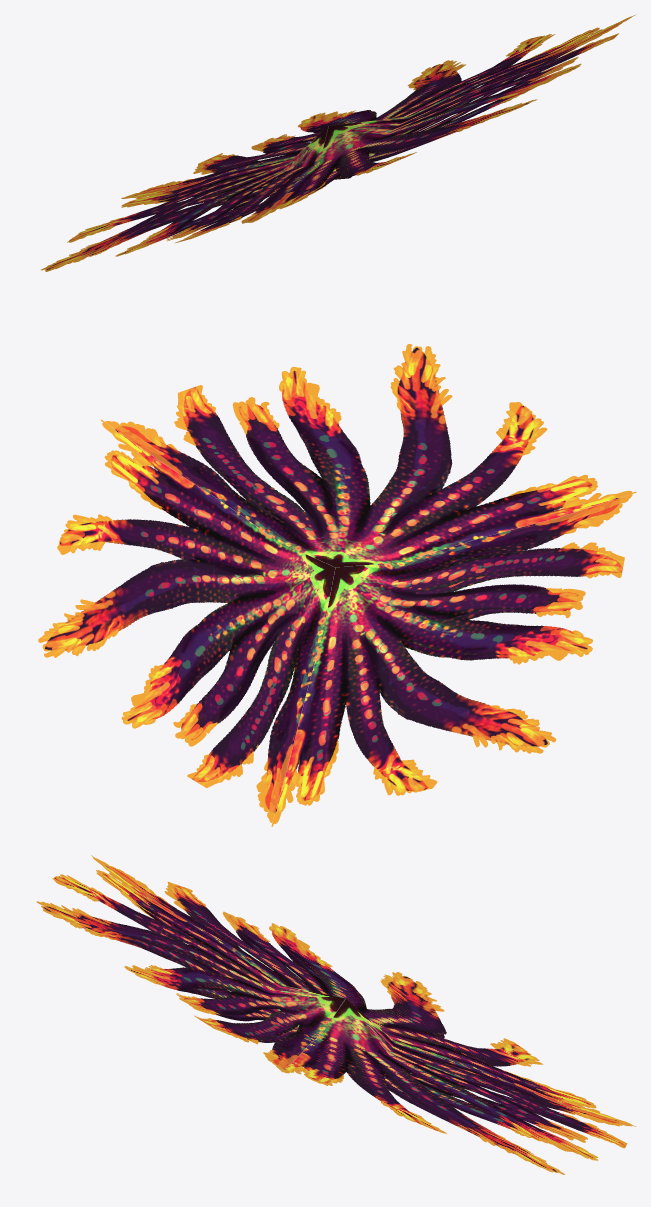
File: Herbistar2.fbx
The picture shows the model from 3 angles, top to bottom: view 1: azimuth 30°, elevation 25°; view 2: azimuth 150°, elevation 25°; view 3: azimuth 270°, elevation 25°; orthographic projection. The views are drawn at different scales.
Parts seen in each view (by area): view 1: Plane; view 2: Plane; view 3: Plane.
Part boxes in pixels (x1=…): Plane: x1=41, y1=14, x2=636, y2=271; Plane: x1=38, y1=344, x2=636, y2=826; Plane: x1=36, y1=855, x2=636, y2=1174.
Bounding box in the file's own units: 520 × 251 × 466.
